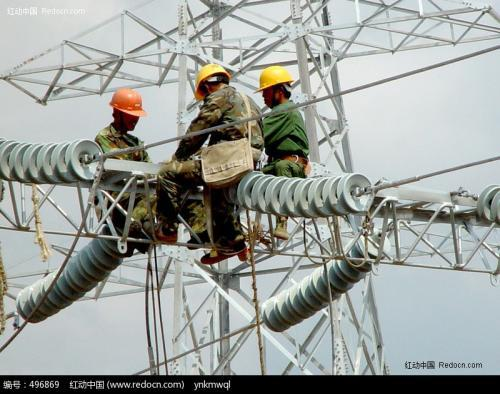helmet: (256, 63, 296, 109), (108, 85, 146, 131), (194, 62, 235, 101)
